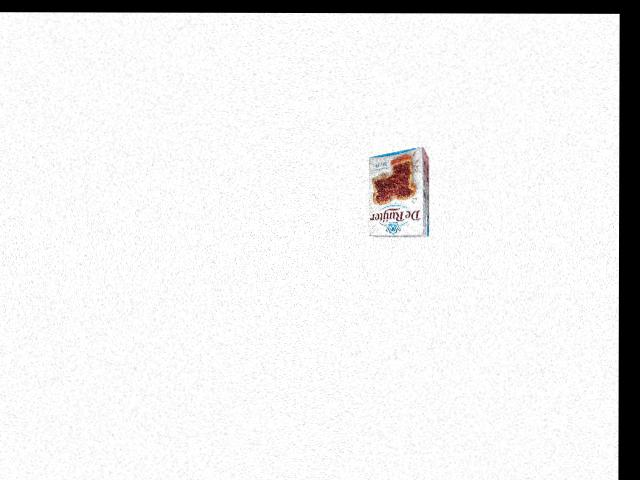chocolate: (360, 149, 437, 242)
